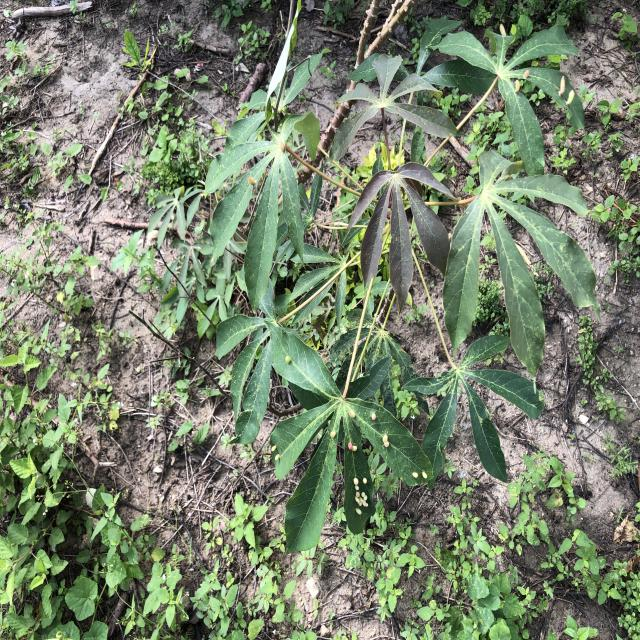Maleza: (6, 333, 158, 635), (377, 528, 640, 640)
Mosca: (348, 471, 377, 517), (555, 69, 576, 116), (509, 64, 536, 97), (273, 348, 301, 373), (261, 440, 288, 465), (406, 466, 435, 484), (492, 17, 510, 40), (378, 428, 393, 453), (247, 165, 261, 190), (344, 404, 358, 425), (364, 409, 382, 425), (328, 421, 340, 443), (345, 437, 357, 456)
